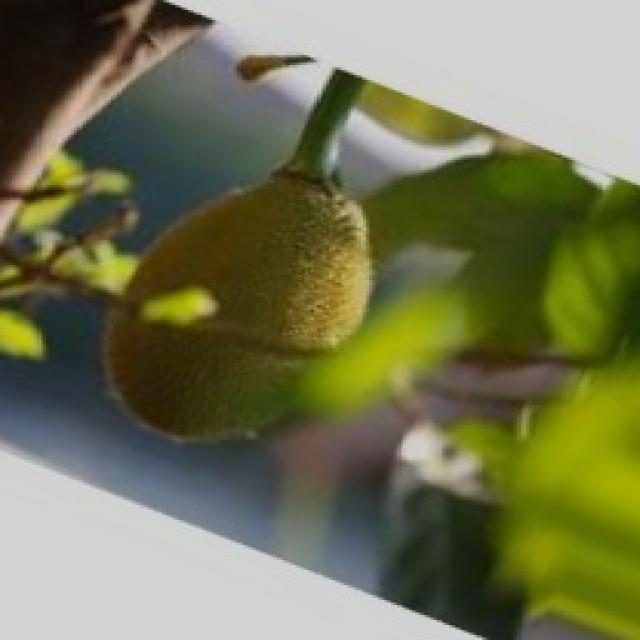Fruit: (59, 138, 418, 462)
